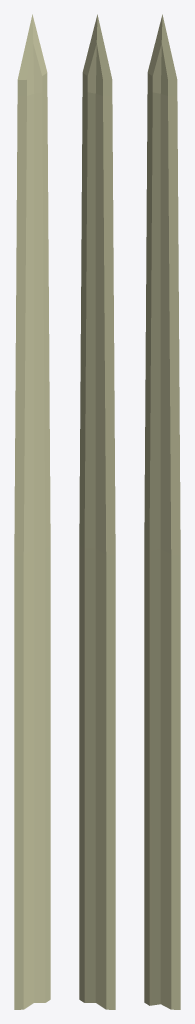
Rendered from Blade3.glb.
3 renders of one model, left to right at view 1: azimuth 30°, elevation 25°; view 2: azimuth 150°, elevation 25°; view 3: azimuth 330°, elevation 25°, orthographic.
Visible parts, largest first — view 1: Blade 3; view 2: Blade 3; view 3: Blade 3.
Boxes of the visible parts, bbox=[...] form: Blade 3: bbox=[14, 14, 50, 1009]; Blade 3: bbox=[79, 14, 115, 1009]; Blade 3: bbox=[144, 14, 180, 1009].
Bounding box in the file's own units: 0.2738 × 7.14 × 0.0556.
